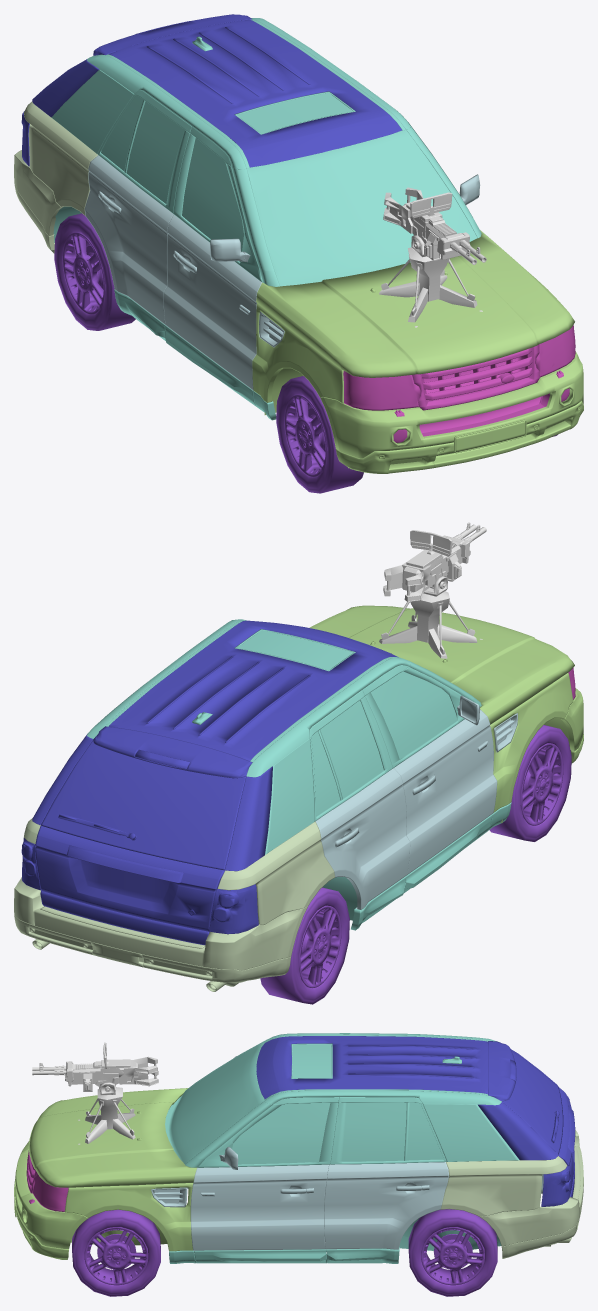
The model's file is landcrusier with gun 1.fbx.
3 views of the same model, one above another, from view 1: azimuth 30°, elevation 25°; view 2: azimuth 150°, elevation 25°; view 3: azimuth 270°, elevation 25° (orthographic). The views are drawn at different scales.
Visible parts, largest first — view 1: RangeRover_PART4, RangeRover_PART5, RangeRover_PART3, RangeRover_PART1, RangeRover_PART6, RangeRover_PART2, Stand1, RangeRover_W_FL02, RangeRover_W_FL01; view 2: RangeRover_PART3, RangeRover_PART4, RangeRover_PART1, RangeRover_PART2, RangeRover_PART5, Stand1, RangeRover_W_FL01, RangeRover_W_FL02; view 3: RangeRover_PART4, RangeRover_PART1, RangeRover_PART3, RangeRover_PART5, RangeRover_PART2, RangeRover_W_FL, RangeRover_W_FL03, Stand1, RangeRover_PART6.
Part boxes in pixels (x1,y1,x2,y2): RangeRover_PART4: (51,18,481,420); RangeRover_PART5: (252,230,583,473); RangeRover_PART3: (21,14,402,167); RangeRover_PART1: (84,155,485,390); RangeRover_PART6: (343,325,575,442); RangeRover_PART2: (14,101,97,253); Stand1: (379,187,486,327); RangeRover_W_FL02: (276,376,363,493); RangeRover_W_FL01: (54,213,135,330); RangeRover_PART3: (21,620,398,945); RangeRover_PART4: (87,619,511,930); RangeRover_PART1: (315,695,517,909); RangeRover_PART2: (14,818,334,991); RangeRover_PART5: (309,605,583,822); Stand1: (379,522,486,658); RangeRover_W_FL01: (260,887,349,1004); RangeRover_W_FL02: (489,725,571,841); RangeRover_PART4: (165,1033,519,1263); RangeRover_PART1: (151,1056,543,1250); RangeRover_PART3: (256,1036,575,1206); RangeRover_PART5: (14,1088,196,1262); RangeRover_PART2: (440,1130,583,1258); RangeRover_W_FL: (408,1209,497,1296); RangeRover_W_FL03: (72,1209,160,1296); Stand1: (32,1042,158,1144); RangeRover_PART6: (26,1150,68,1211).
Size of the model in its own units: 4.03 by 3.88 by 9.79.
